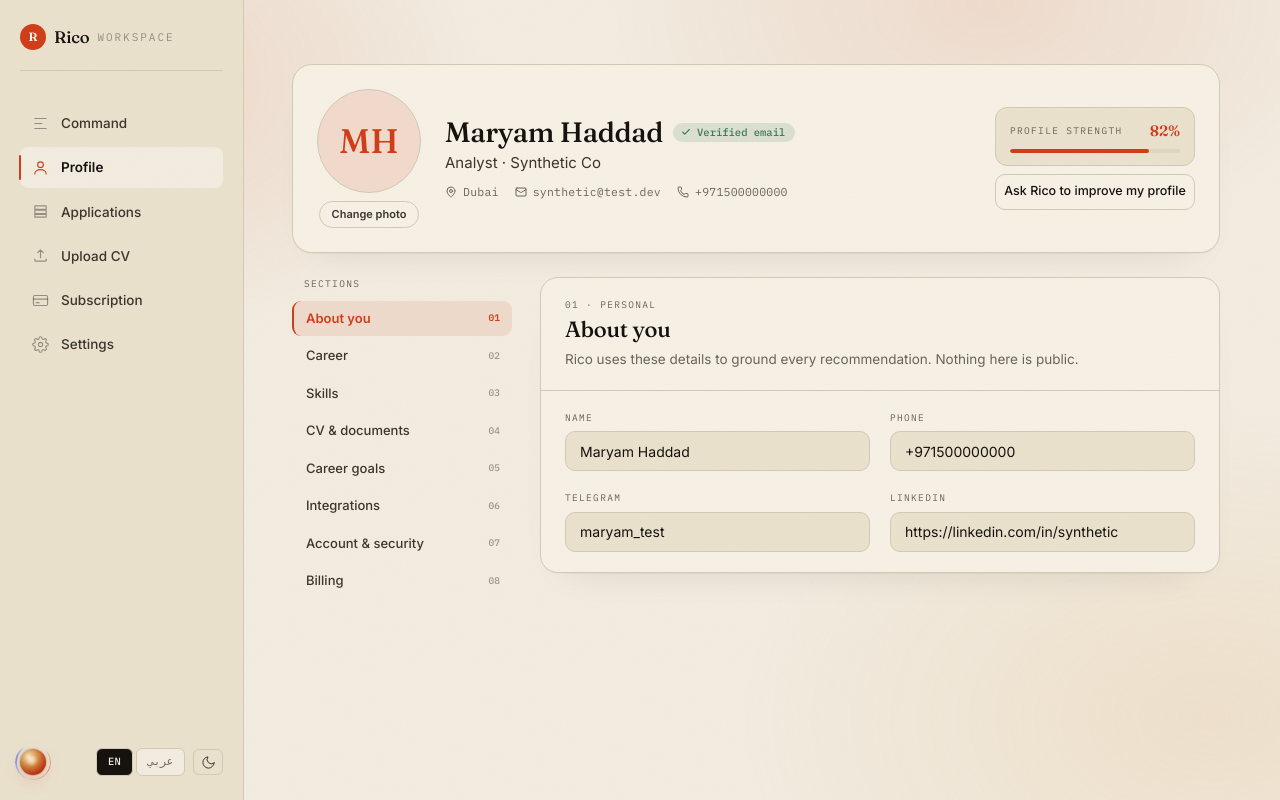
Test: profile editorial — unsaved-edit contract › guards a dirty refresh/leave via beforeunload, and does not guard a clean one
Expected: the heading "Maryam Haddad" is shown, [445,116,663,148]
make an edit → dirty
Type "9" into the field labelled "Phone" at (1042, 451), box [890,431,1195,471]
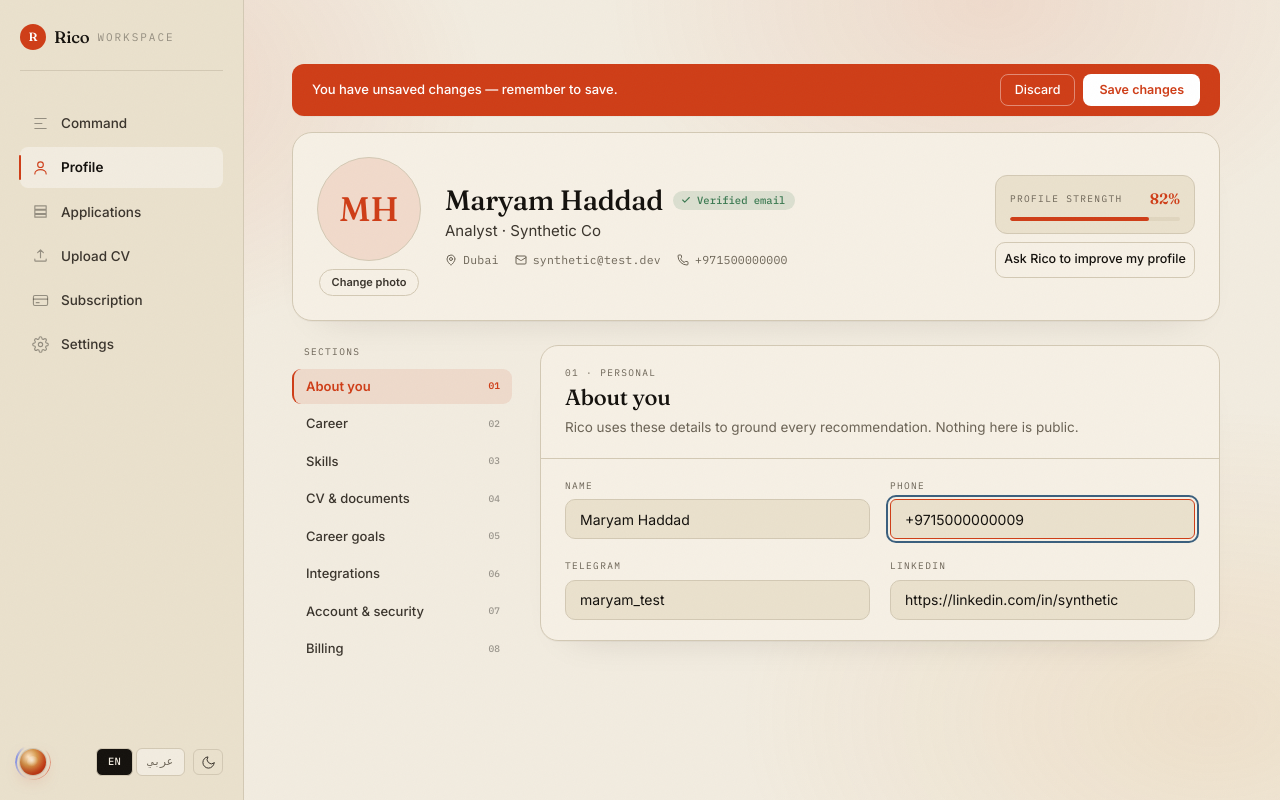
Expected: the element with test id "profile-ed-savebar" is shown, [292,64,1220,116]
